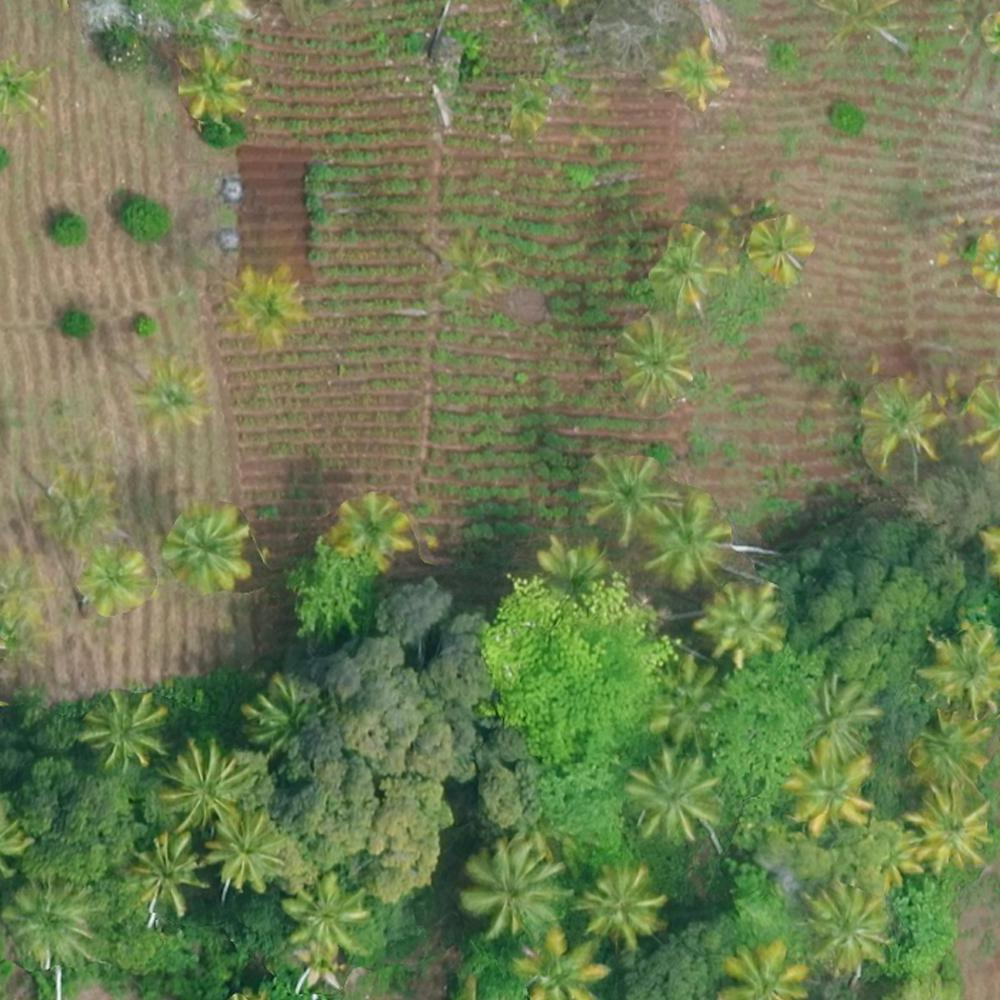Palm: (464, 843, 569, 934), (624, 749, 719, 835), (784, 741, 874, 829), (575, 450, 665, 536), (164, 506, 250, 595), (801, 883, 893, 966), (281, 874, 368, 957), (640, 497, 725, 580), (162, 742, 240, 831), (207, 809, 285, 895), (698, 581, 783, 659), (513, 927, 607, 996), (126, 830, 203, 914), (859, 382, 940, 461), (232, 268, 310, 346), (584, 863, 664, 939), (924, 630, 1000, 710), (911, 790, 988, 867), (914, 711, 994, 781), (176, 47, 257, 116), (653, 657, 726, 733), (83, 692, 161, 763), (338, 494, 413, 566), (617, 321, 688, 397), (717, 942, 810, 1000), (809, 674, 884, 745), (658, 229, 727, 302), (76, 546, 147, 616), (140, 361, 210, 426), (751, 219, 818, 276), (659, 47, 722, 107), (293, 941, 352, 994)
